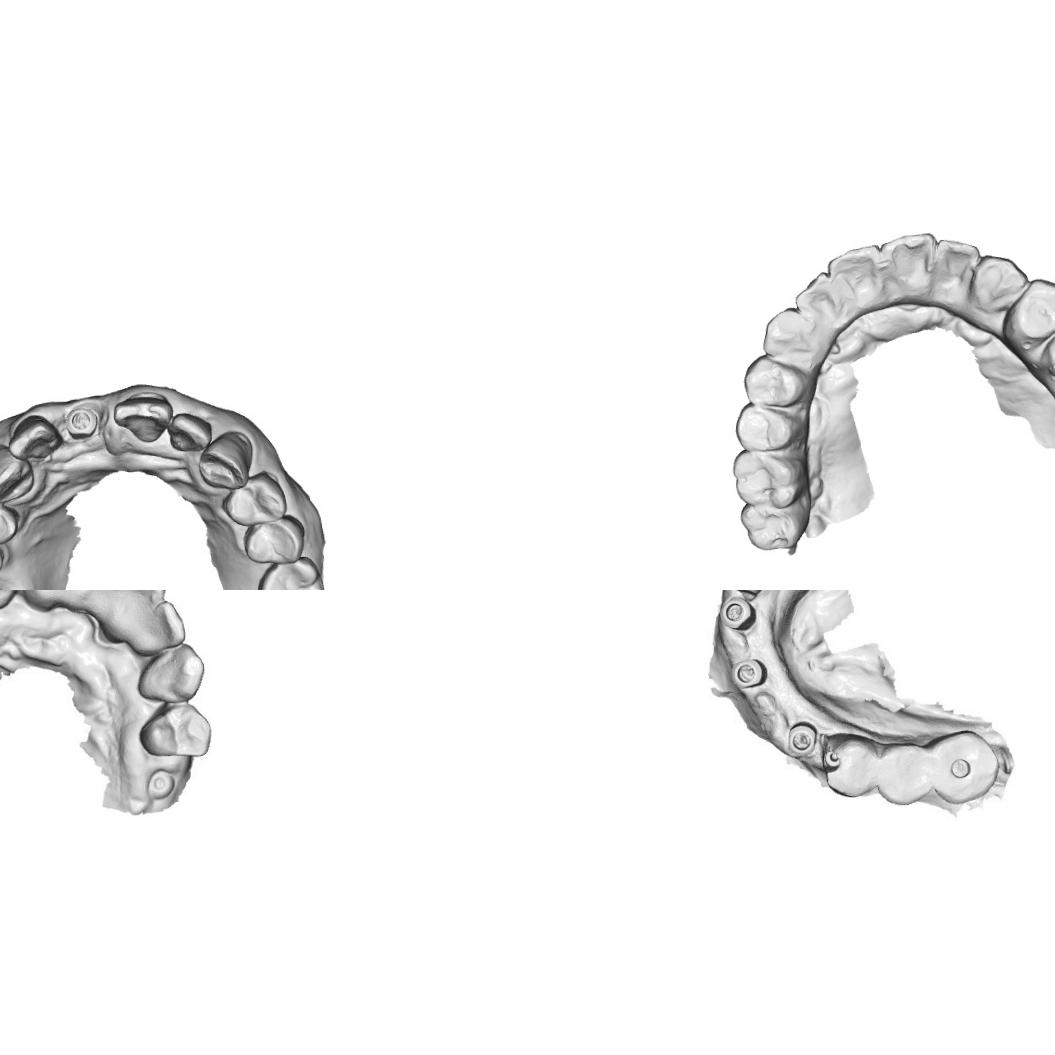canine: (134, 644, 207, 706), (966, 250, 1029, 320), (756, 304, 820, 367), (194, 430, 255, 492), (0, 444, 39, 503)
implant: (782, 716, 822, 760), (142, 765, 179, 808), (63, 402, 100, 443), (721, 592, 758, 630), (734, 658, 764, 690)
incisor: (878, 229, 942, 306), (824, 243, 886, 316), (788, 269, 852, 334), (110, 389, 176, 447), (934, 236, 984, 309), (3, 412, 60, 462), (90, 590, 166, 627), (133, 603, 183, 652), (165, 408, 212, 459), (70, 590, 121, 612)
molar: (726, 444, 816, 514), (931, 728, 1000, 804), (873, 740, 939, 808), (737, 500, 816, 554), (252, 554, 328, 590)
premolar: (138, 699, 213, 766), (998, 275, 1055, 353), (740, 352, 813, 412), (220, 470, 292, 528), (821, 730, 878, 801), (732, 401, 803, 454), (241, 514, 309, 569), (1037, 312, 1055, 382), (0, 490, 21, 549)
